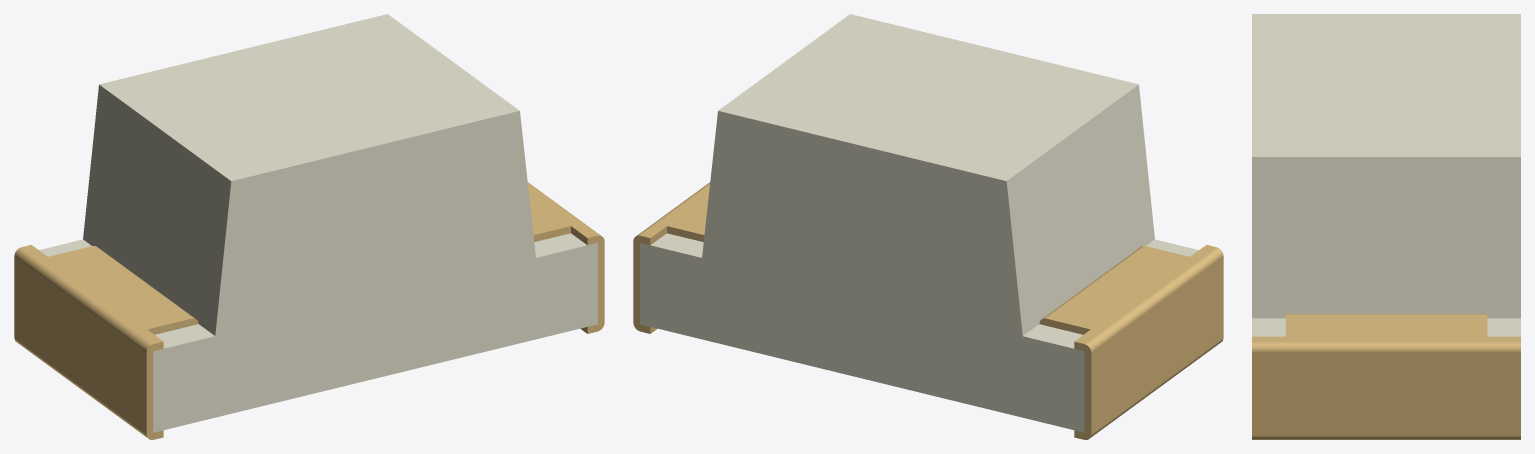
The model's file is LED_0402_1005Metric.glb.
3 views of the same model, side by side, from view 1: azimuth 30°, elevation 25°; view 2: azimuth 150°, elevation 25°; view 3: azimuth 270°, elevation 25° (orthographic).
Parts seen in each view (by area): view 1: =>[0:1:1:3]; view 2: =>[0:1:1:3]; view 3: =>[0:1:1:3].
Part boxes in pixels (x1,y1,x2,y2): =>[0:1:1:3]: [14, 14, 604, 439]; =>[0:1:1:3]: [633, 14, 1223, 439]; =>[0:1:1:3]: [1252, 14, 1520, 439].
Size of the model in its own units: 0.001 by 0.0005 by 0.0005.
